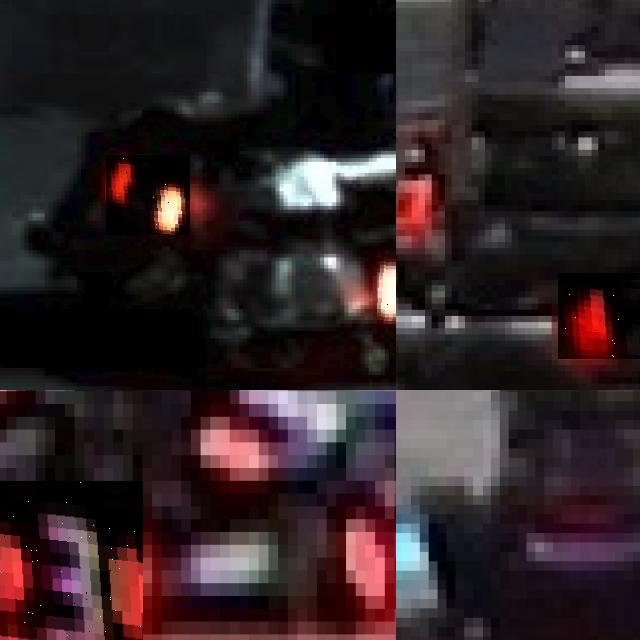R2: (558, 273, 640, 359)
R3: (0, 480, 142, 640)
Rs: (106, 155, 190, 235)
